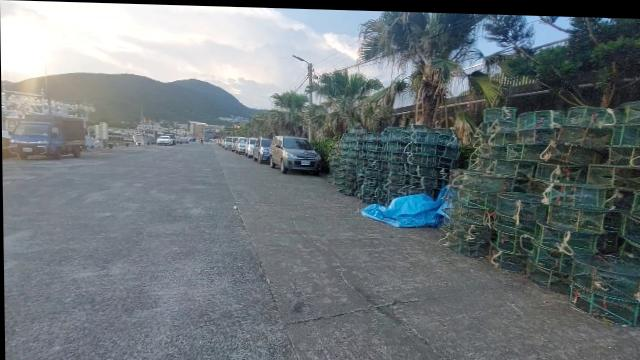pollute: (358, 182, 457, 227)
